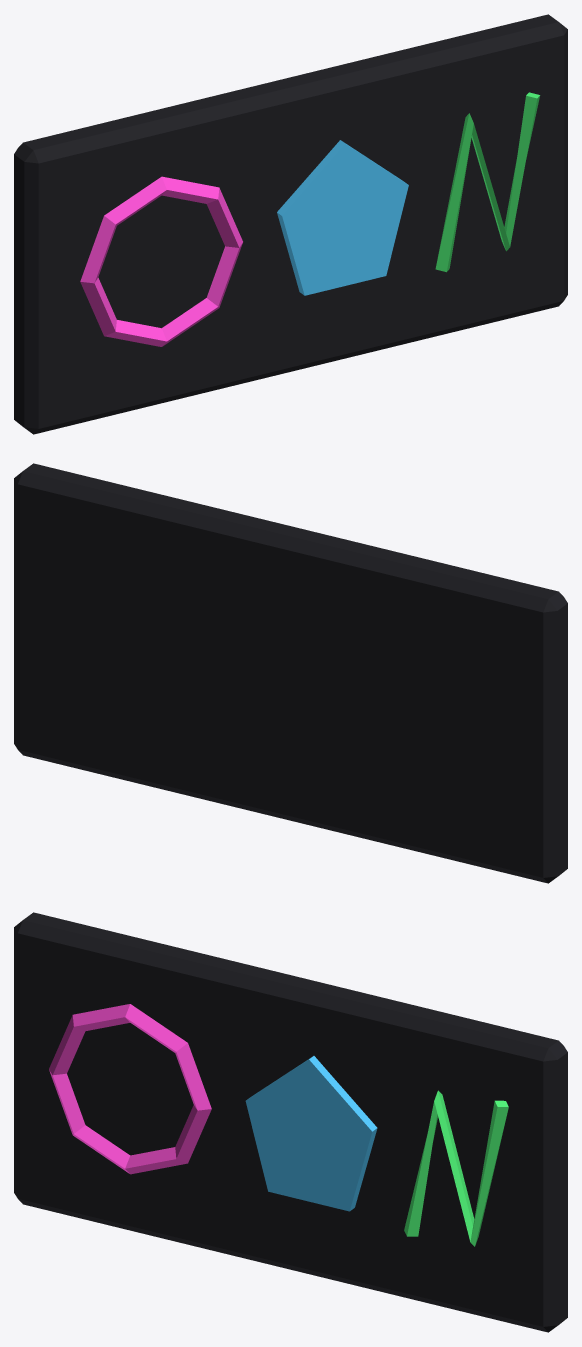
File: NeonSign.fbx
3 views of the same model, one above another, from view 1: azimuth 30°, elevation 25°; view 2: azimuth 150°, elevation 25°; view 3: azimuth 330°, elevation 25° (orthographic).
Parts seen in each view (by area): view 1: NeonSign; view 2: NeonSign; view 3: NeonSign.
Part boxes in pixels (<box>): NeonSign: <box>14,14,567,434</box>; NeonSign: <box>14,463,567,883</box>; NeonSign: <box>14,912,567,1332</box>.
Size of the model in its own units: 6 by 3 by 0.6.
1 material, 1 textured.
